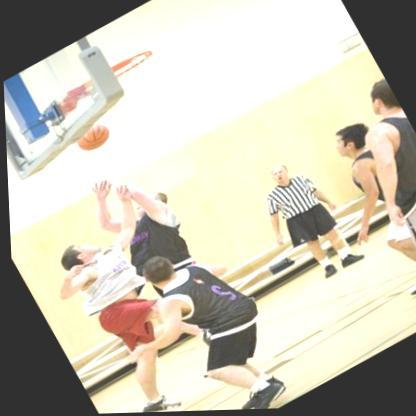basketball: (69, 116, 115, 157)
rim: (69, 47, 157, 103)
